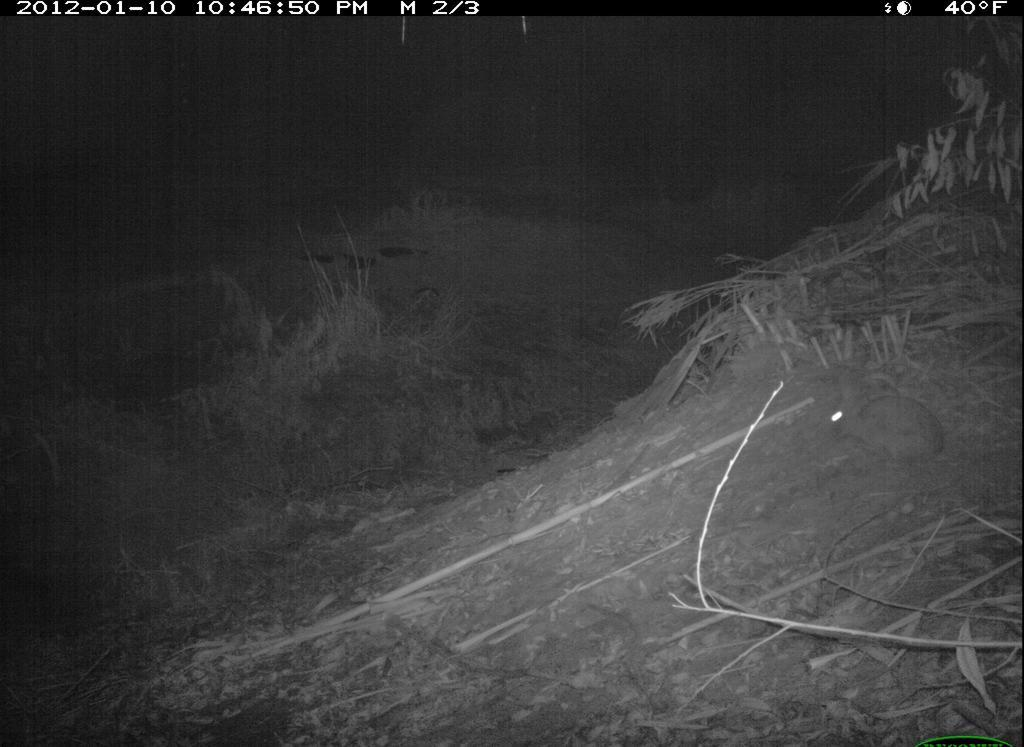rabbit: (803, 333, 964, 475)
